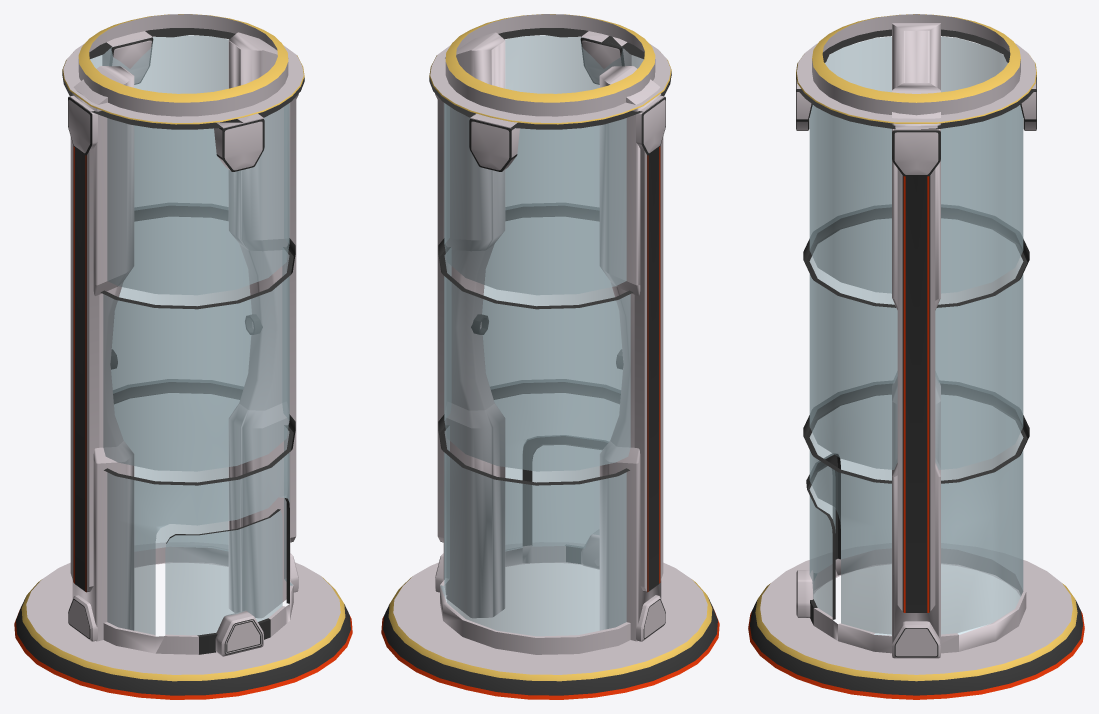
Rendered from NukeTubeTest2.fbx.
The picture shows the model from 3 angles, left to right: view 1: azimuth 30°, elevation 25°; view 2: azimuth 150°, elevation 25°; view 3: azimuth 270°, elevation 25°; orthographic projection.
Visible parts, largest first — view 1: NukeTube, Bar; view 2: NukeTube, Bar; view 3: NukeTube, Bar.
Boxes of the visible parts, x1,y1,x2,y2 form: NukeTube: (14, 14, 352, 699); Bar: (72, 32, 290, 641); NukeTube: (381, 14, 719, 699); Bar: (443, 32, 661, 641); NukeTube: (748, 14, 1084, 699); Bar: (892, 23, 940, 641).
Size of the model in its own units: 590 by 1103 by 586.
